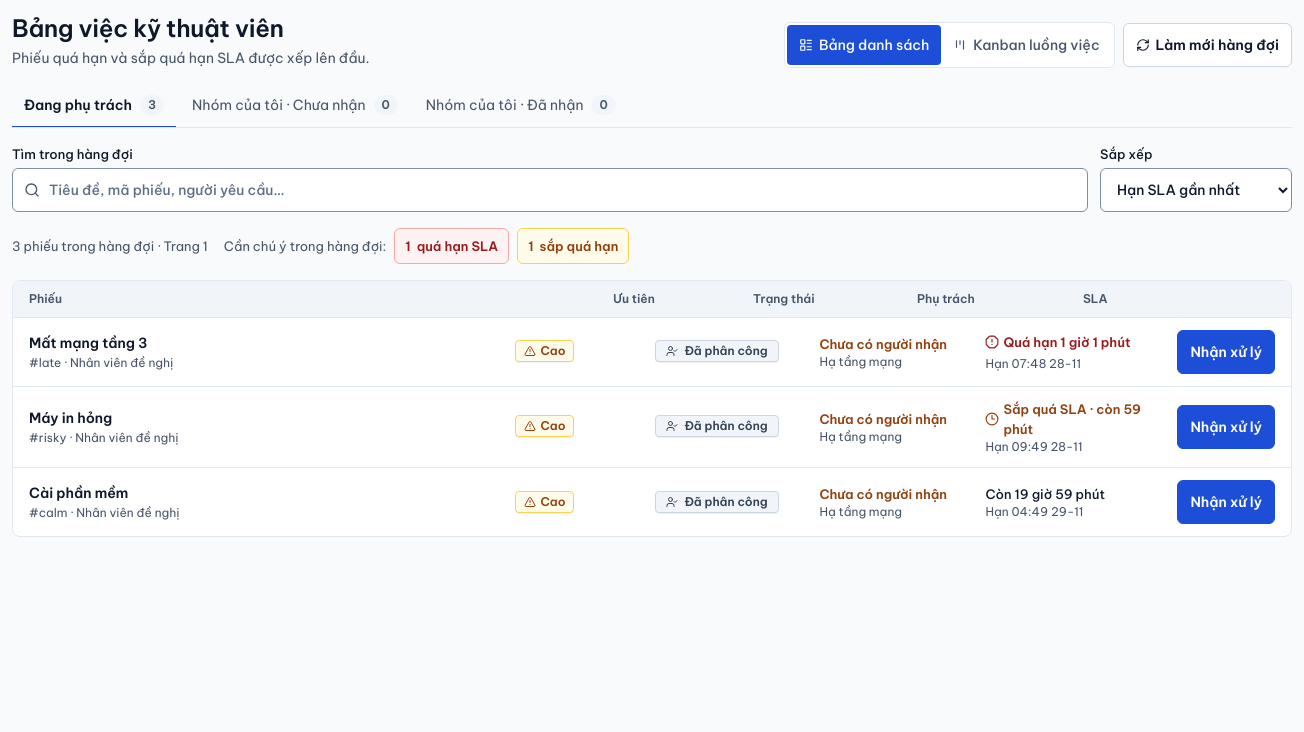
it: server-side ticket queues › sorts breached and at-risk tickets first and filters by SLA attention
The width and height of the screenshot is (1304, 732).
Expected: the button "Cài phần mềm" is shown, [29,483,128,503]
Expected: the buttons read "Mất mạng tầng 3", "Máy in hỏng", "Cài phần mềm", in this order, [29,333,148,353]; [29,408,112,428]; [29,483,128,503]
Click the button "1 sắp quá hạn": point(573, 246) [517,228,629,264]
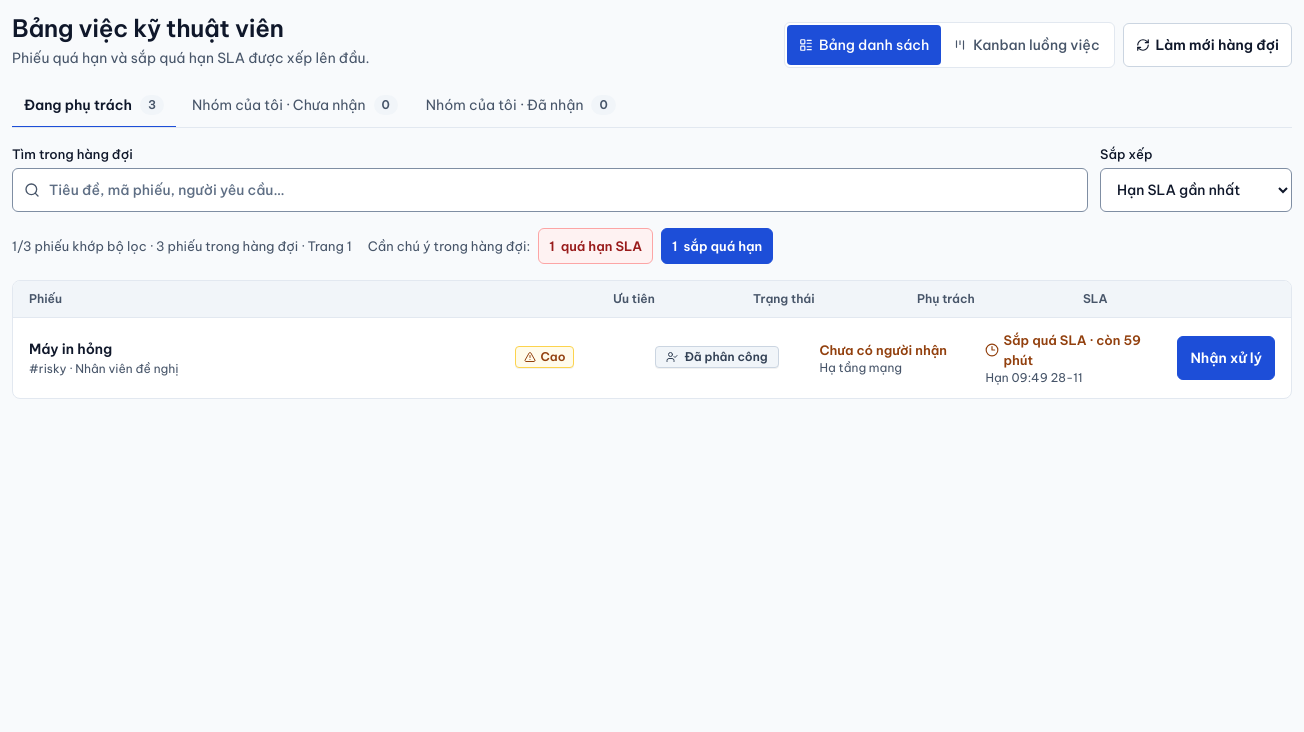
Expected: the button "Máy in hỏng" is shown, [29,339,112,359]
Result: the button "Cài phần mềm" is gone
